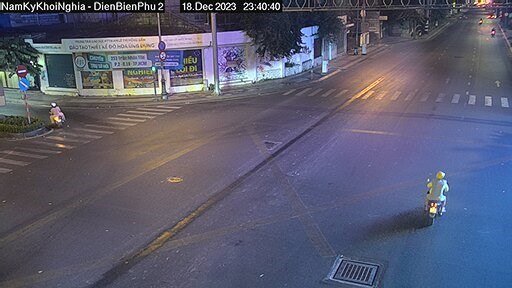motorbike: (416, 166, 447, 225), (46, 101, 79, 125)
